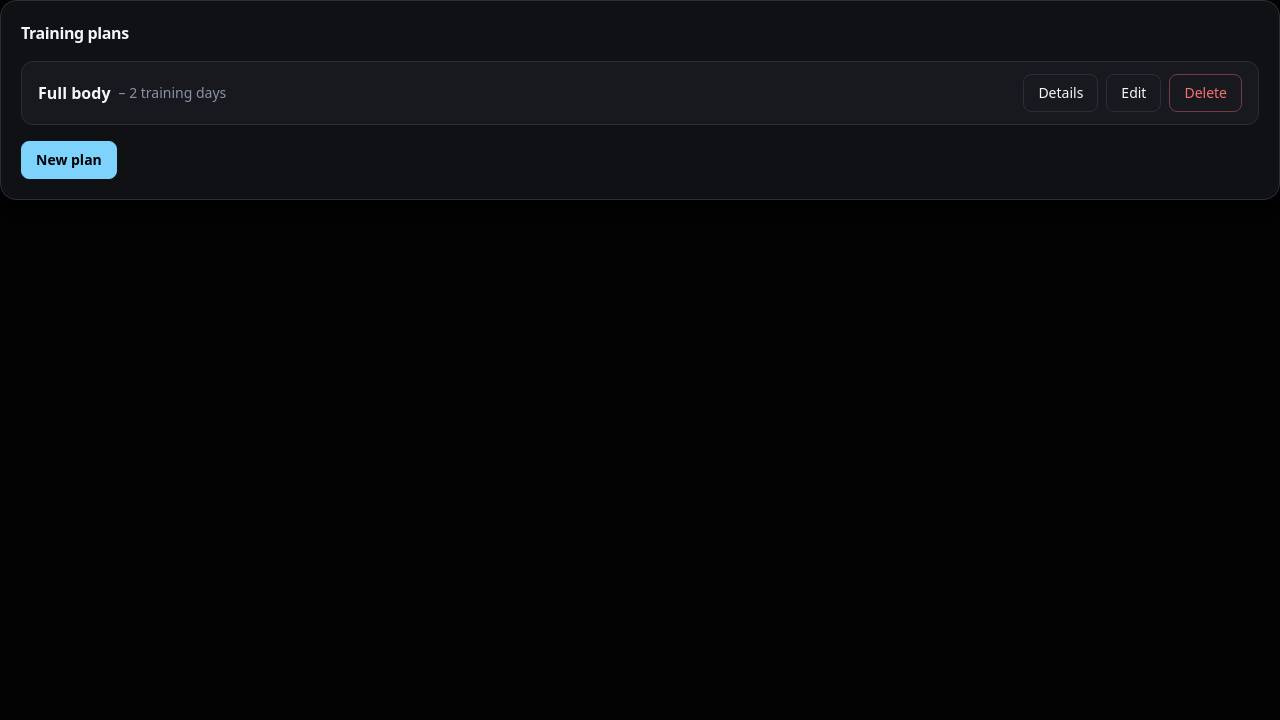
Test: Plans › opens the PlanForm pre-filled when editing a plan
expect the text "Full body" is shown: met, box top-left (38, 81), bottom-right (110, 105)
Click the button "Edit": (1134, 93) top-left (1106, 74), bottom-right (1162, 112)
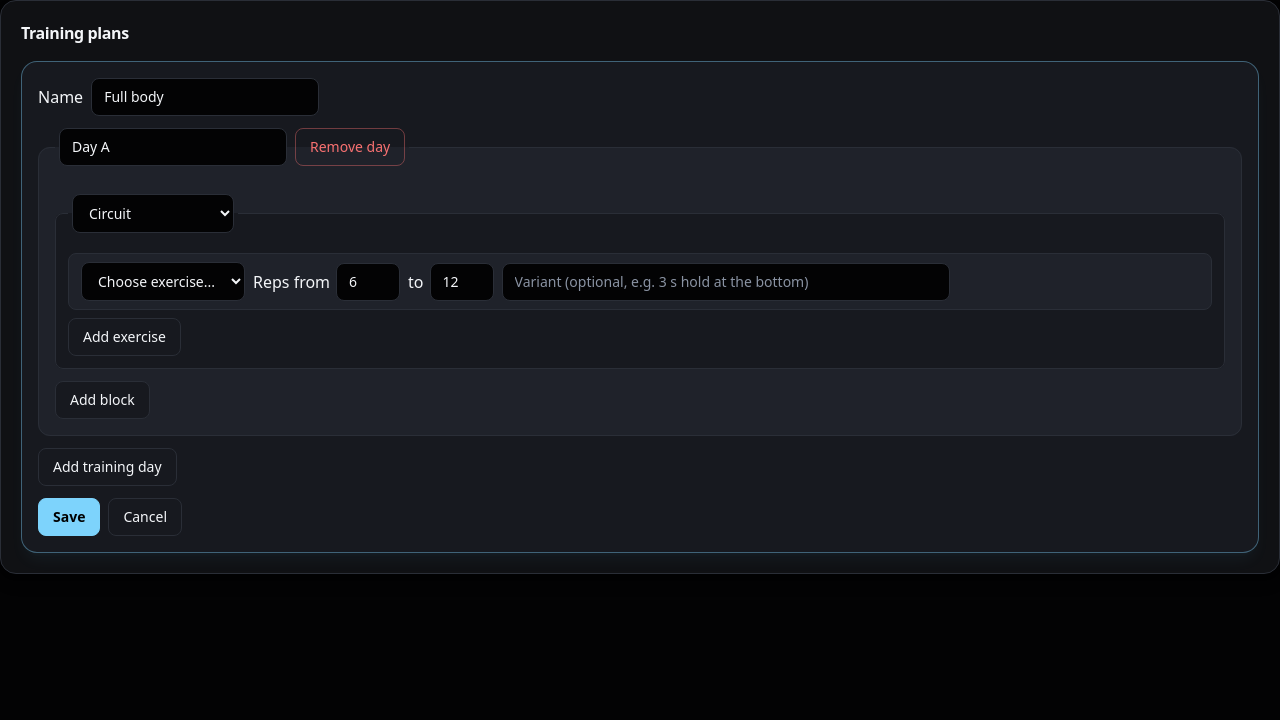
expect the field showing "Full body" is shown: met, box top-left (91, 78), bottom-right (319, 116)
expect the field showing "Day A" is shown: met, box top-left (59, 128), bottom-right (287, 166)
